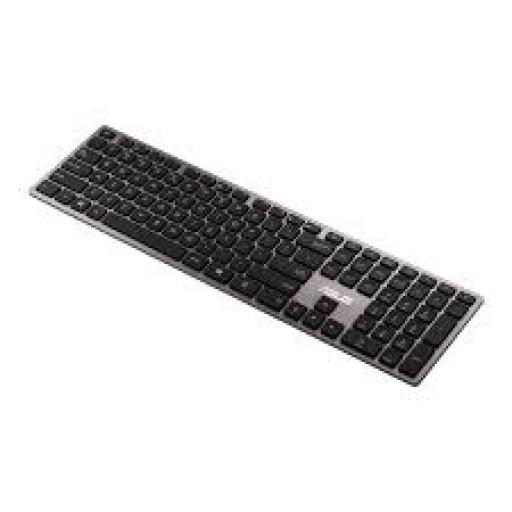KEYBOARD-2: (30, 125, 482, 382)
